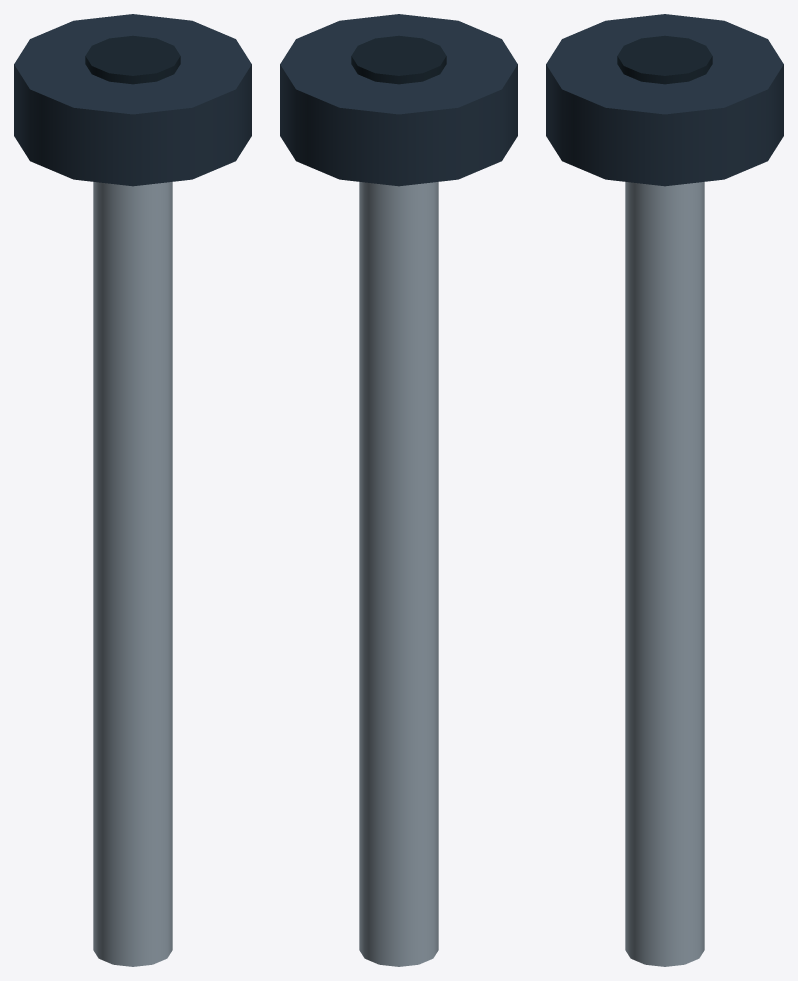
The model's file is fastener.glb.
The picture shows the model from 3 angles, left to right: view 1: azimuth 30°, elevation 25°; view 2: azimuth 150°, elevation 25°; view 3: azimuth 270°, elevation 25°; orthographic projection.
Parts seen in each view (by area): view 1: ScrewShaft, SocketHead, HexSocket; view 2: ScrewShaft, SocketHead, HexSocket; view 3: ScrewShaft, SocketHead, HexSocket.
Boxes of the visible parts, x1,y1,x2,y2 form: ScrewShaft: [93, 182, 172, 966]; SocketHead: [14, 14, 251, 186]; HexSocket: [85, 35, 180, 84]; ScrewShaft: [359, 182, 438, 966]; SocketHead: [280, 14, 517, 186]; HexSocket: [351, 35, 446, 84]; ScrewShaft: [625, 182, 704, 966]; SocketHead: [546, 14, 783, 186]; HexSocket: [617, 35, 712, 84].
Bounding box in the file's own units: 0.009 × 0.0374 × 0.009.
